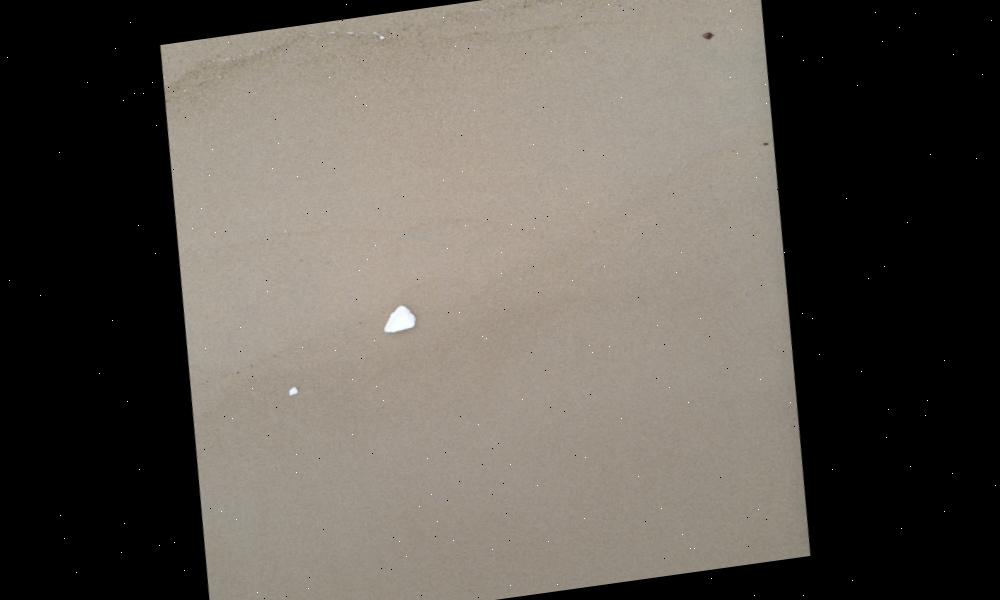styrofoam: (381, 304, 420, 334), (288, 389, 304, 398)
